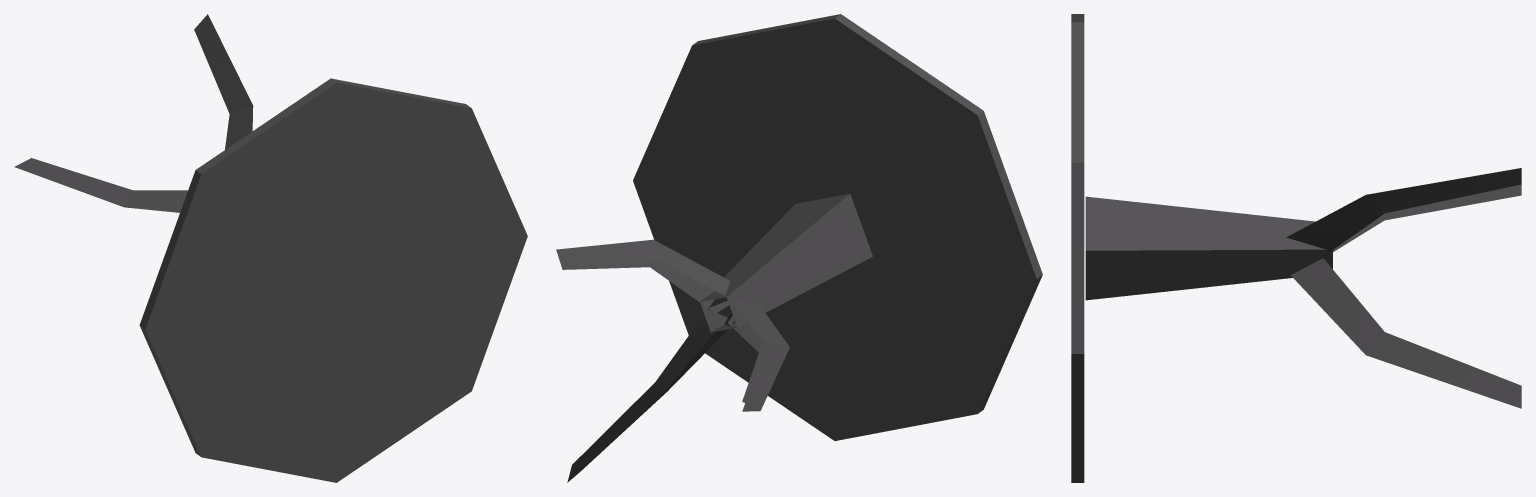
File: nt_2020_table_01_LOD1.obj
The picture shows the model from 3 angles, left to right: view 1: azimuth 30°, elevation 25°; view 2: azimuth 150°, elevation 25°; view 3: azimuth 270°, elevation 25°; orthographic projection. The views are drawn at different scales.
Visible parts, largest first — view 1: sub_polished_metal; view 2: sub_polished_metal; view 3: sub_polished_metal.
Part boxes in pixels (box(x1,y1,x2,y2)): sub_polished_metal: box(14, 14, 527, 482); sub_polished_metal: box(556, 14, 1042, 482); sub_polished_metal: box(1071, 14, 1521, 482).
Size of the model in its own units: 87.88 by 87.88 by 79.35.
